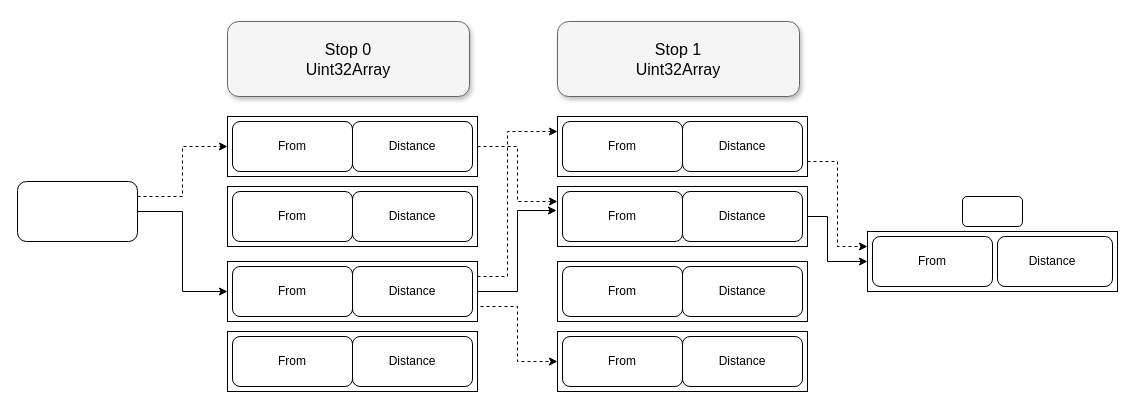
Image size: 1135x409. Some labels were removed from this diagram. Here are the shapes that lost their labels. From the top down, the centre of each, then its label:
At point (77, 211): "Start".
At point (992, 211): "End".
